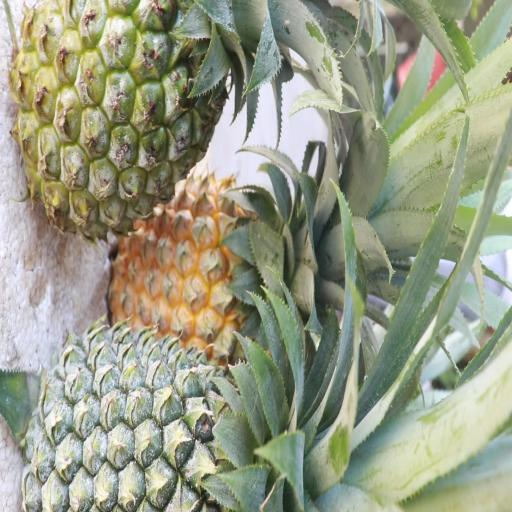------------------------------: (16, 0, 222, 229)
Pineapple - v8 v1: (116, 166, 296, 346)
